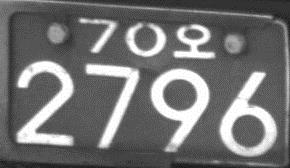0: (124, 20, 166, 58)
2: (15, 59, 74, 148)
6: (219, 69, 278, 158)
7: (83, 61, 141, 149), (77, 16, 117, 53)
9: (148, 67, 210, 152)
오: (172, 22, 216, 59)
